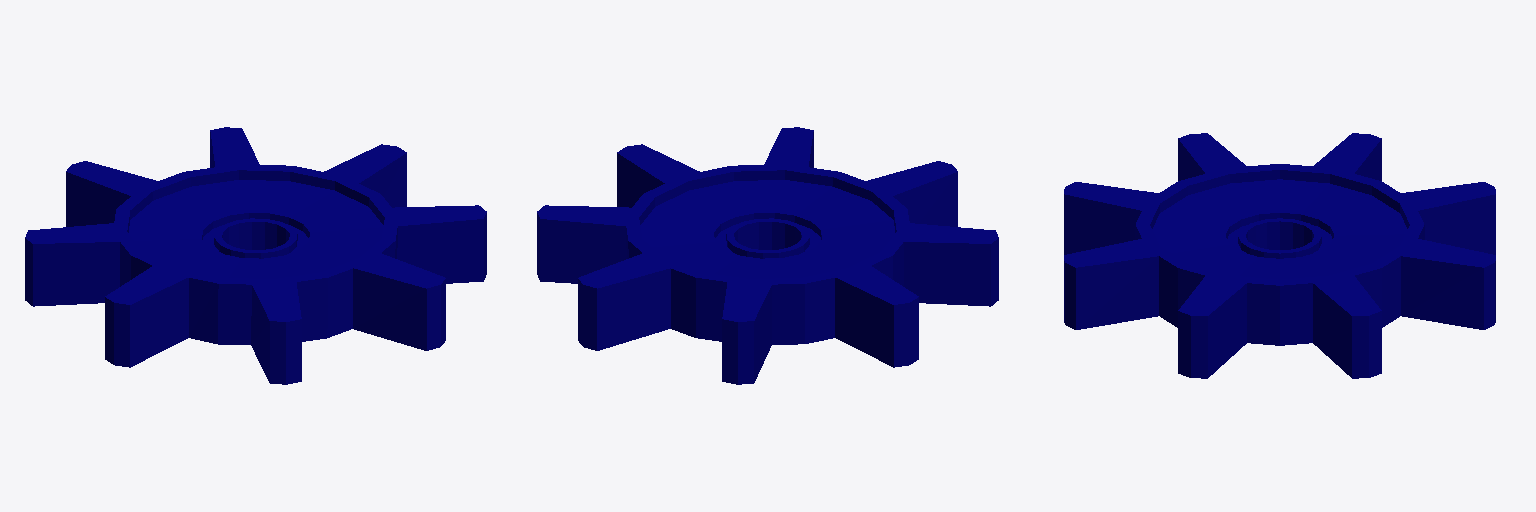
Rendered from spring2.obj.
3 renders of one model, left to right at view 1: azimuth 30°, elevation 25°; view 2: azimuth 150°, elevation 25°; view 3: azimuth 270°, elevation 25°, orthographic.
Parts seen in each view (by area): view 1: spring2; view 2: spring2; view 3: spring2.
Boxes of the visible parts, x1,y1,x2,y2 form: spring2: [25, 127, 486, 384]; spring2: [537, 127, 998, 384]; spring2: [1064, 133, 1495, 378].
Bounding box in the file's own units: 59.66 × 9.52 × 59.66.